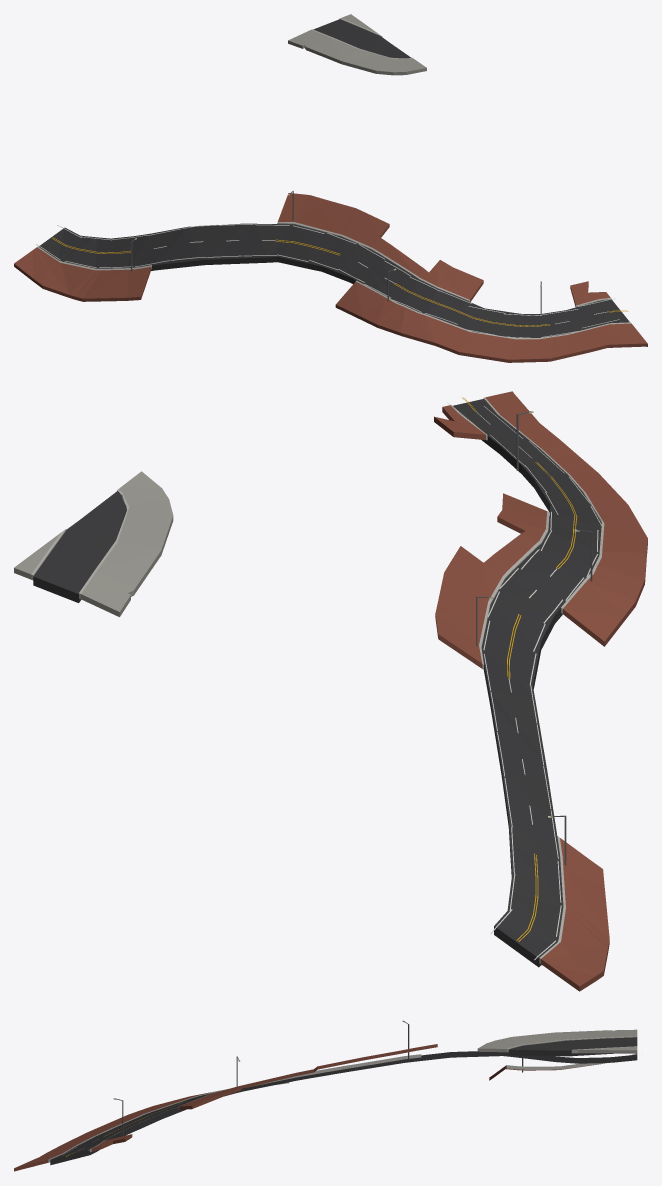
3 views of the same model, one above another, from view 1: azimuth 30°, elevation 25°; view 2: azimuth 150°, elevation 25°; view 3: azimuth 270°, elevation 25° (orthographic). The views are drawn at different scales.
Bounding box in the file's own units: 80.01 × 40.64 × 122.
